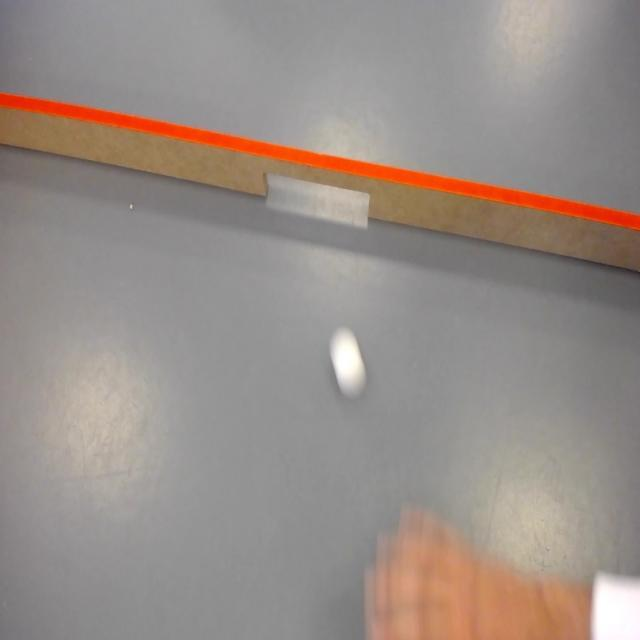white: (329, 327, 367, 399)
